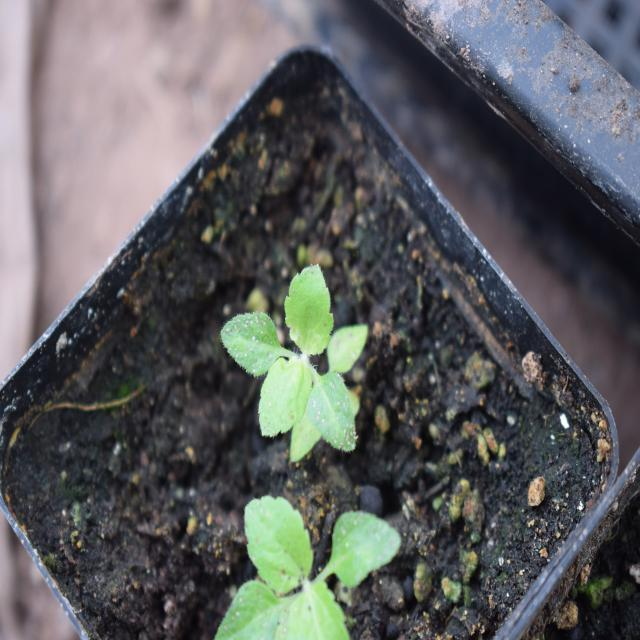billygoat_weed: (223, 254, 380, 460)
